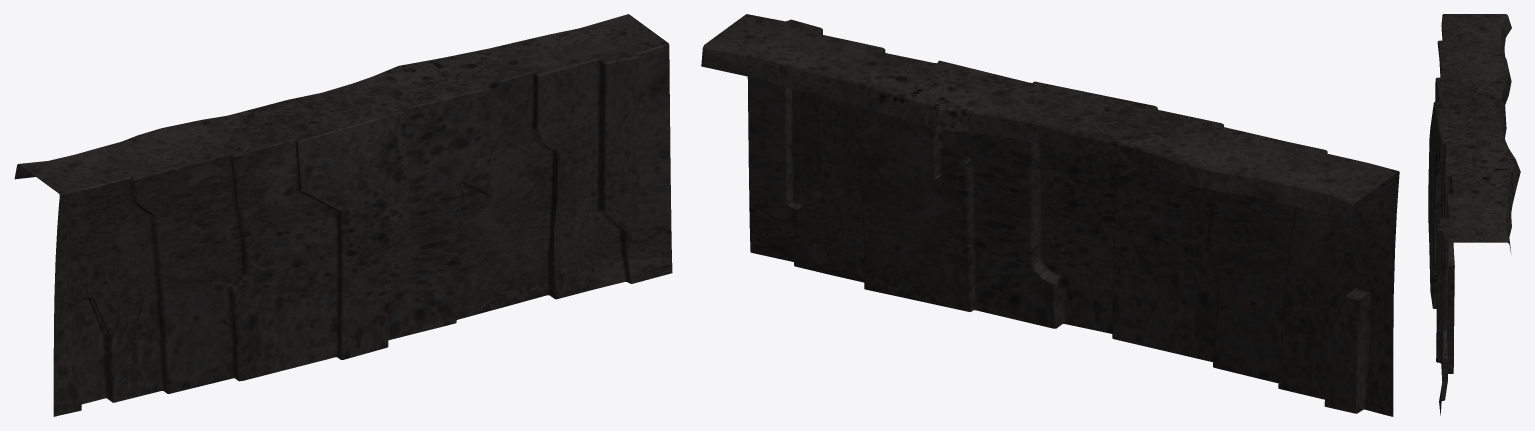
Rendered from CaveCliffS.fbx.
3 views of the same model, side by side, from view 1: azimuth 30°, elevation 25°; view 2: azimuth 150°, elevation 25°; view 3: azimuth 270°, elevation 25° (orthographic). The views are drawn at different scales.
Parts seen in each view (by area): view 1: SM_ENV_NATURE_Cave_Wall_S_7m.mo; view 2: SM_ENV_NATURE_Cave_Wall_S_7m.mo; view 3: SM_ENV_NATURE_Cave_Wall_S_7m.mo.
Boxes of the visible parts, left/top/right/bottom form: SM_ENV_NATURE_Cave_Wall_S_7m.mo: left=14, top=14, right=672, bottom=416; SM_ENV_NATURE_Cave_Wall_S_7m.mo: left=701, top=14, right=1399, bottom=416; SM_ENV_NATURE_Cave_Wall_S_7m.mo: left=1428, top=14, right=1520, bottom=415.
Bounding box in the file's own units: 700 × 249 × 120.
Materials: 2 (2 with a texture image).
